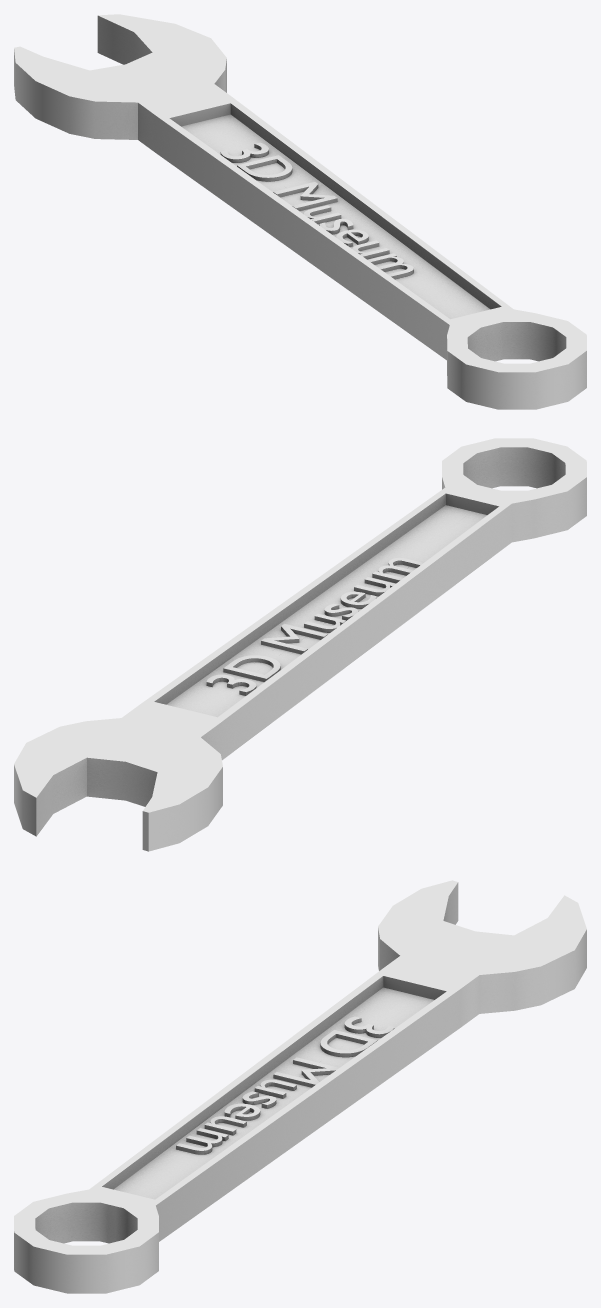
File: Wrench.fbx
The picture shows the model from 3 angles, top to bottom: view 1: azimuth 30°, elevation 25°; view 2: azimuth 150°, elevation 25°; view 3: azimuth 330°, elevation 25°; orthographic projection. The views are drawn at different scales.
Parts seen in each view (by area): view 1: Plane; view 2: Plane; view 3: Plane.
Boxes of the visible parts, bbox=[...] form: Plane: bbox=[14, 14, 586, 409]; Plane: bbox=[14, 438, 586, 851]; Plane: bbox=[14, 880, 586, 1293].
Size of the model in its own units: 103 by 21.05 by 484.
1 material, 1 textured.
